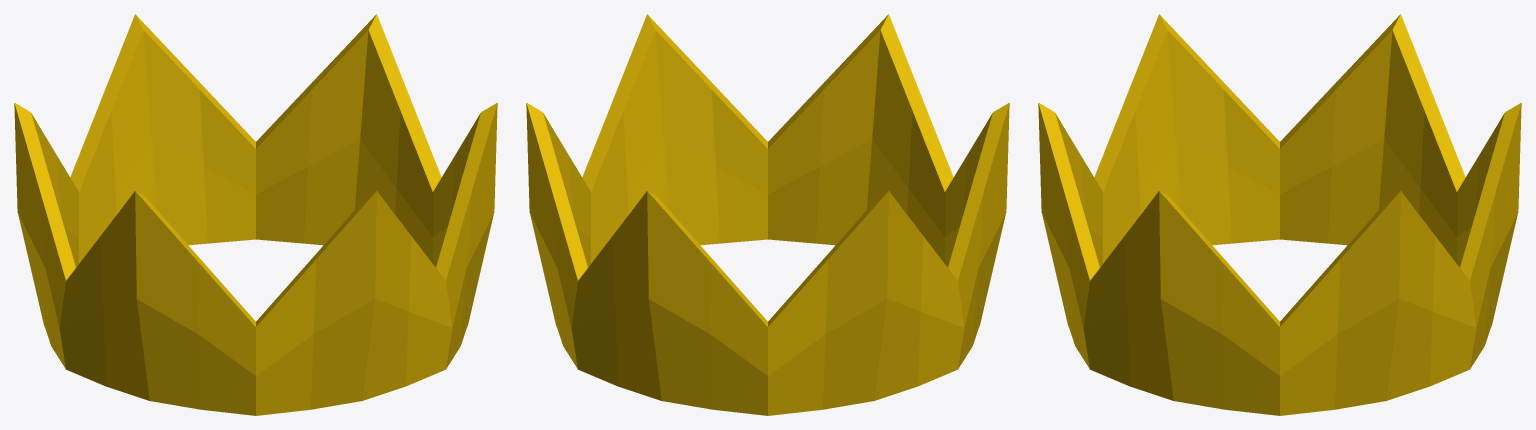
The model's file is Krone.fbx.
3 renders of one model, left to right at view 1: azimuth 30°, elevation 25°; view 2: azimuth 150°, elevation 25°; view 3: azimuth 270°, elevation 25°, orthographic.
Visible parts, largest first — view 1: Cylinder; view 2: Cylinder; view 3: Cylinder.
Boxes of the visible parts, left/top/right/bottom form: Cylinder: left=14, top=14, right=497, bottom=415; Cylinder: left=526, top=14, right=1009, bottom=415; Cylinder: left=1038, top=14, right=1521, bottom=415.
Bounding box in the file's own units: 1555 × 845 × 1656.
